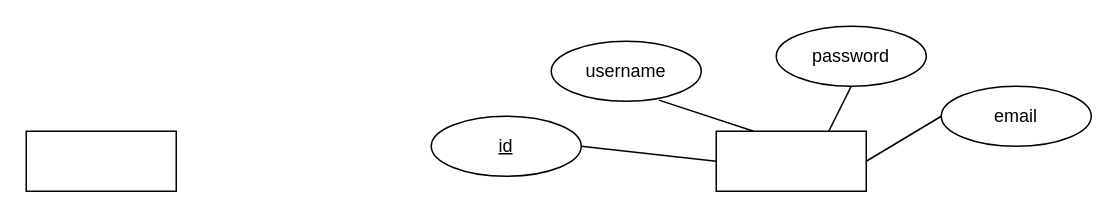
Image size: 1118x218. Some labels were removed from this diagram. The shapes that lost their labels are listed below. From the top down, each one's centre as x and y in pixels, then its label:
At point (100, 160): "Job Seekers".
At point (790, 160): "Account".
